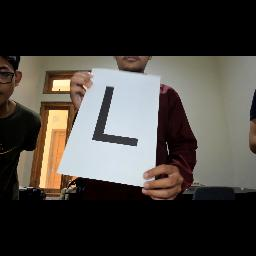l: (88, 82, 146, 154)
